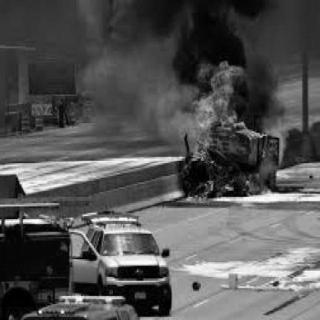Fire: (189, 62, 247, 128)
Smoke: (93, 1, 264, 130)
